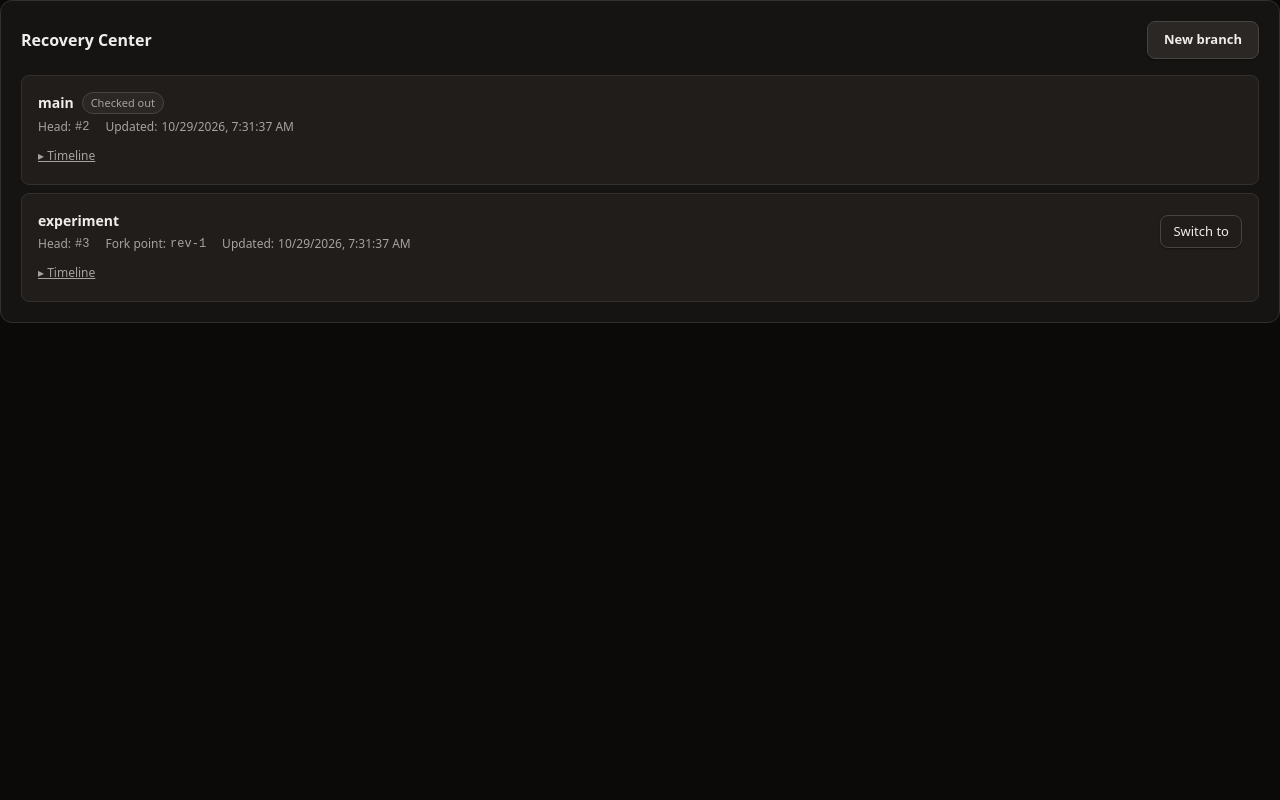
it: RecoveryCenter › opens the create dialog
Click the button with test id "recovery-create-open" at (1203, 40), box x1=1147 y1=21 x2=1259 y2=58
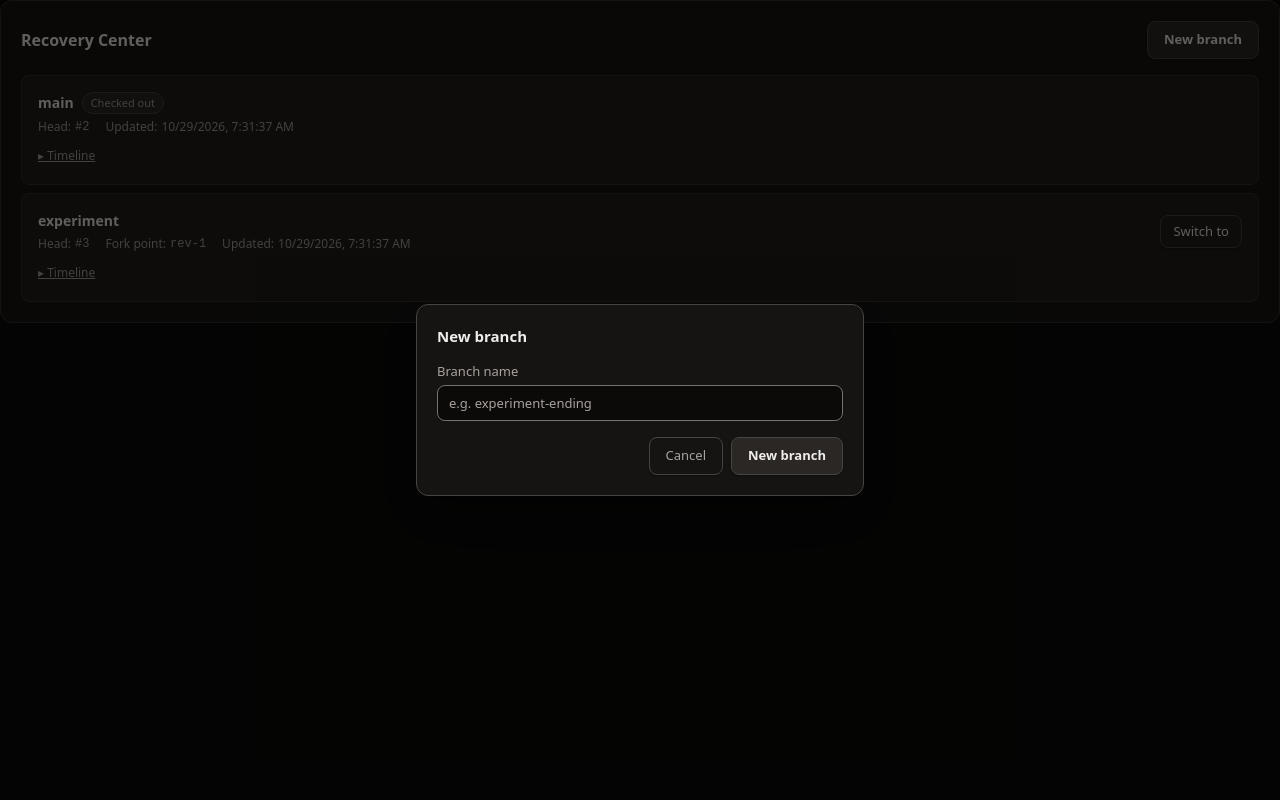
expect the dialog with test id "recovery-create-dialog" is shown: met, box x1=416 y1=304 x2=864 y2=496
expect the field with test id "recovery-create-name" is shown: met, box x1=437 y1=385 x2=843 y2=421
